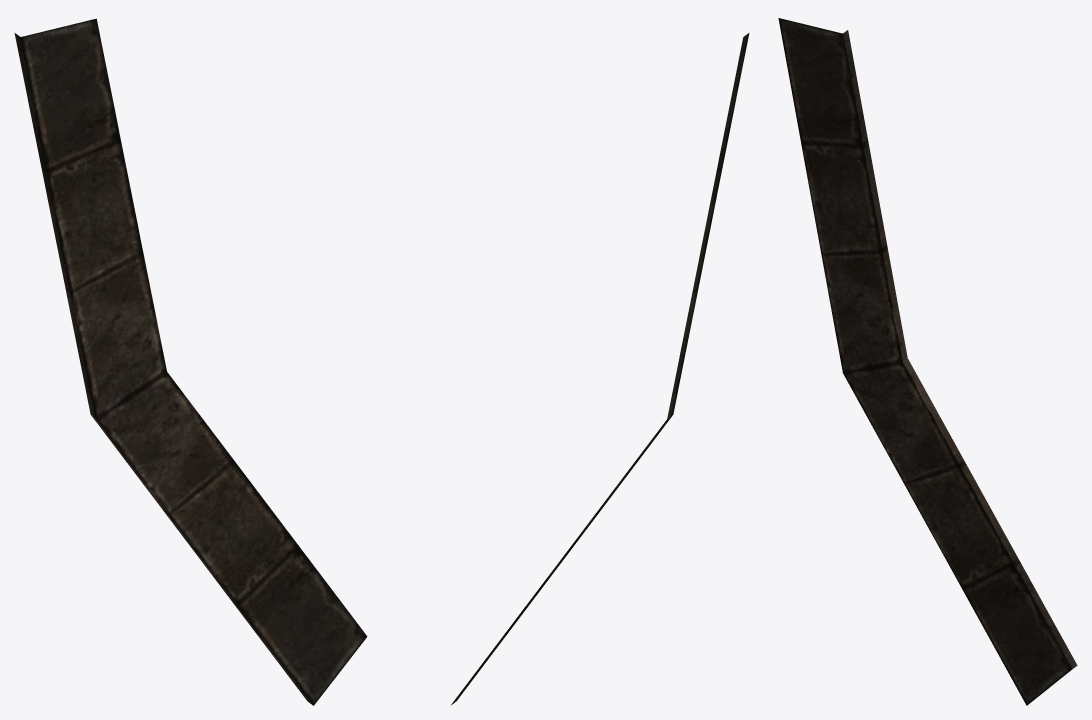
3 views of the same model, side by side, from view 1: azimuth 30°, elevation 25°; view 2: azimuth 150°, elevation 25°; view 3: azimuth 330°, elevation 25° (orthographic). The views are drawn at different scales.
Visible parts, largest first — view 1: model_Object84; view 2: model_Object84; view 3: model_Object84.
Part boxes in pixels (left/top/right/bottom): model_Object84: left=14, top=18, right=367, bottom=705; model_Object84: left=451, top=33, right=749, bottom=704; model_Object84: left=778, top=18, right=1077, bottom=705.
Size of the model in its own units: 2.99 by 6.1 by 0.0929.
Materials: 1 (1 with a texture image).
